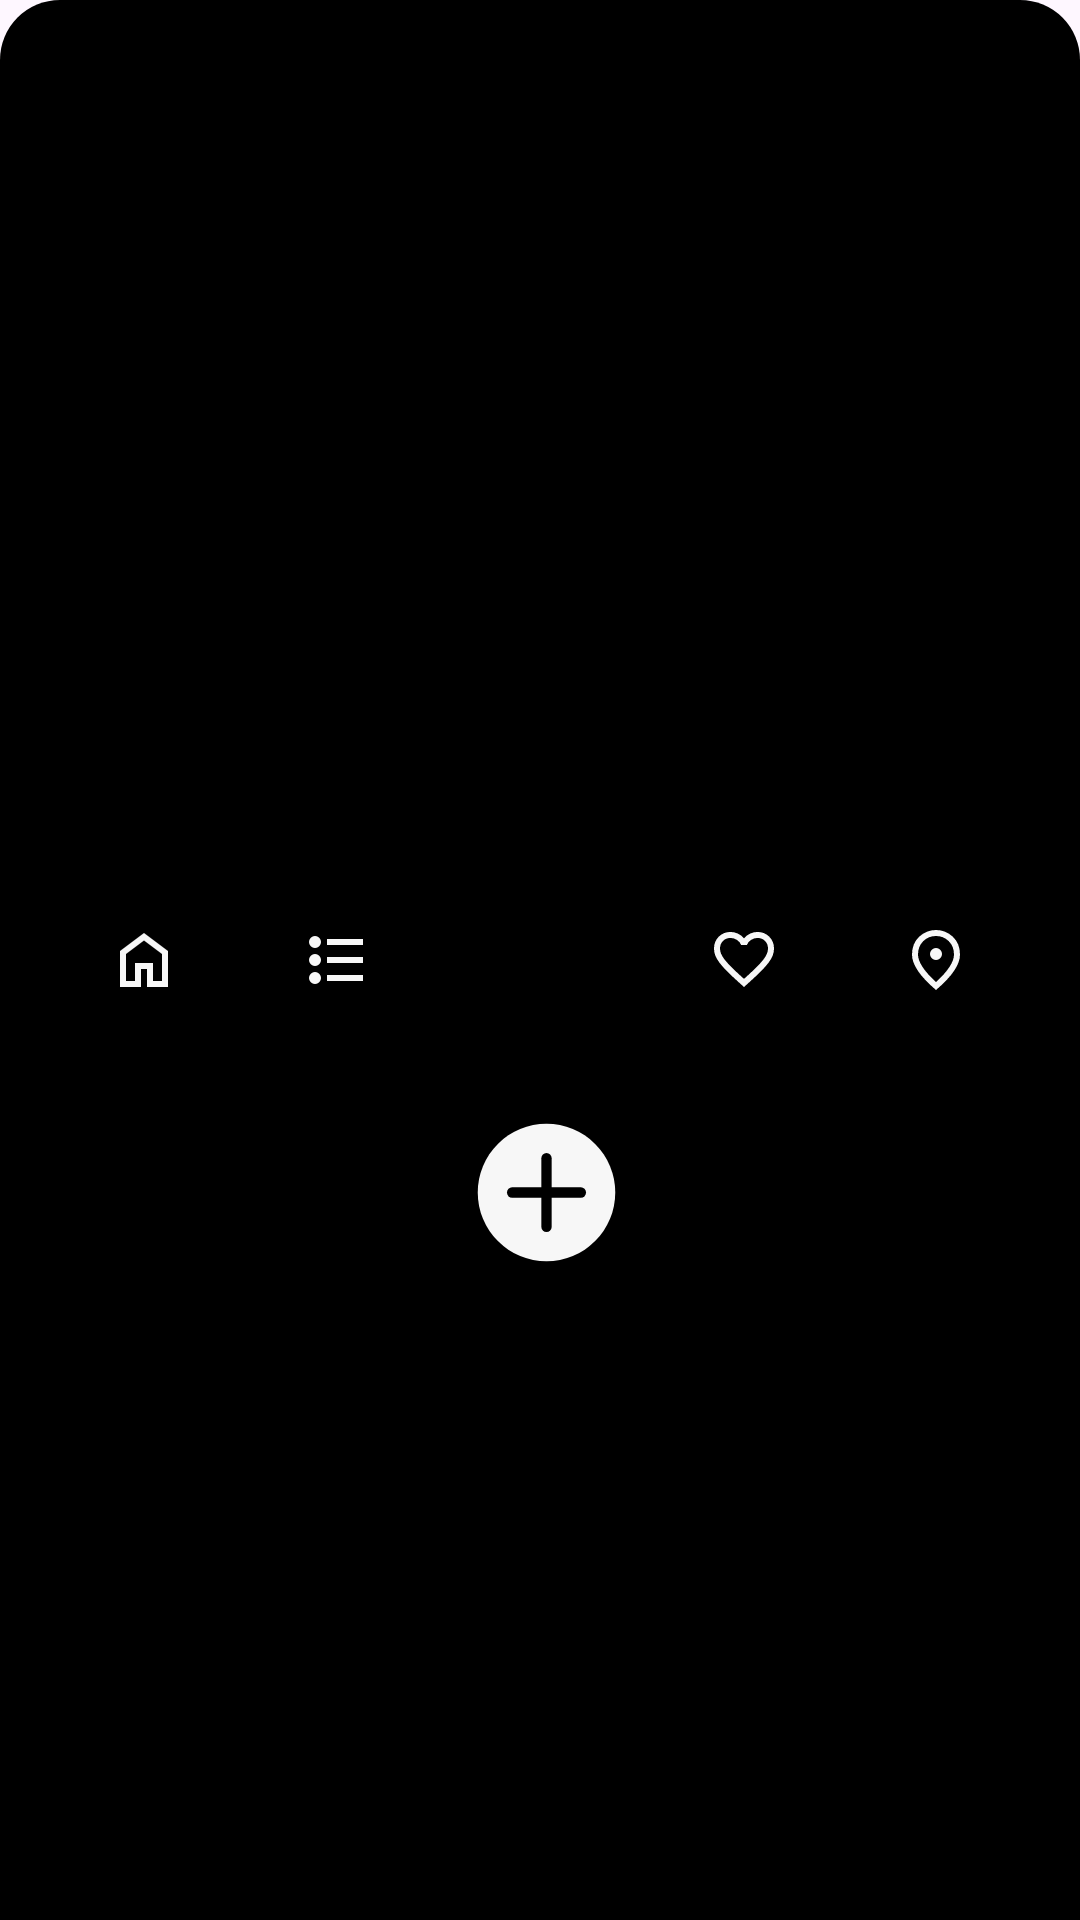

Point at icon controls on the screen. Image size 1080w x 1920h, points as (x,y).
Add: (546,1192)
Favorites: (744,959)
Home: (144,960)
Itineraries: (336,960)
Map: (936,960)
